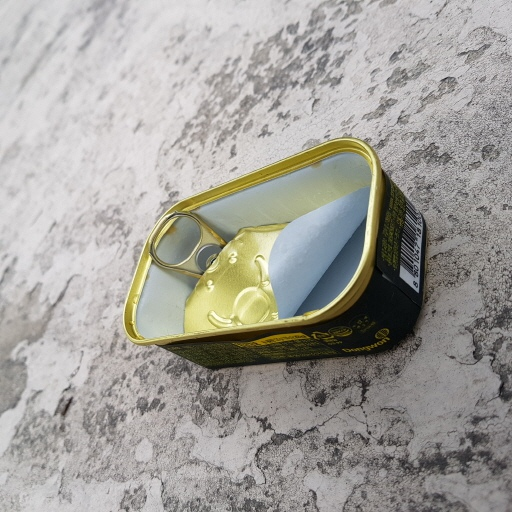Metal_2: (118, 141, 434, 375)
